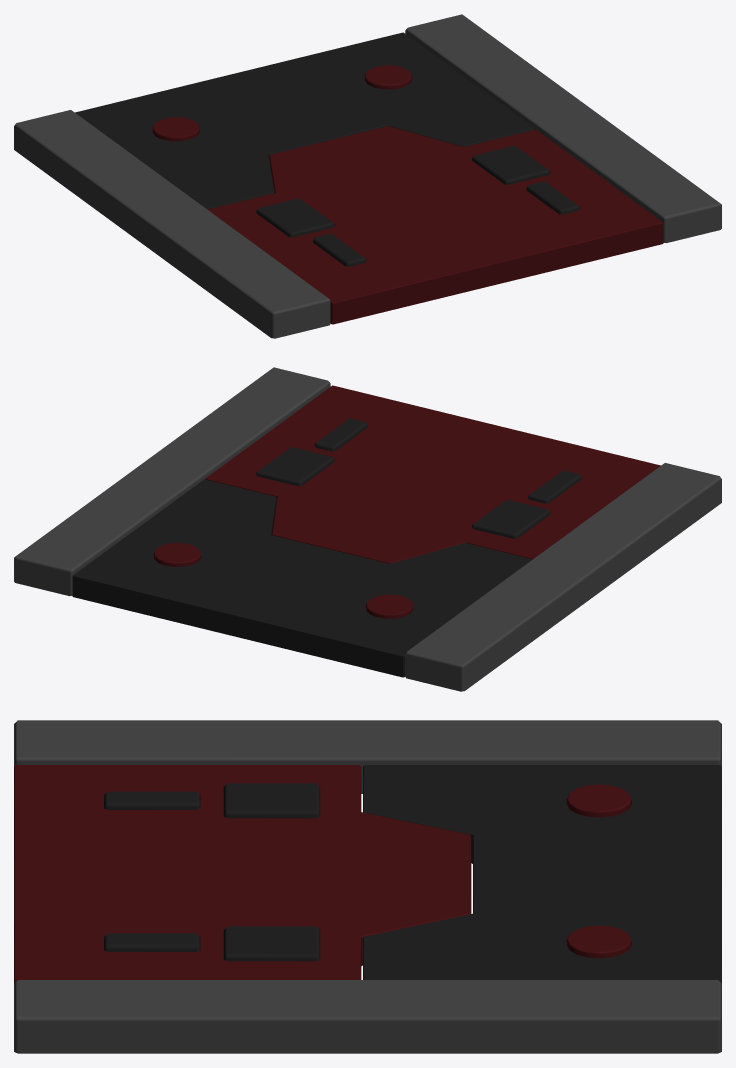
The model's file is colony_Tile_track3.glb.
3 views of the same model, one above another, from view 1: azimuth 30°, elevation 25°; view 2: azimuth 150°, elevation 25°; view 3: azimuth 270°, elevation 25° (orthographic). The views are drawn at different scales.
Parts seen in each view (by area): view 1: Tile_track3; view 2: Tile_track3; view 3: Tile_track3.
Boxes of the visible parts, x1=… form: Tile_track3: x1=14, y1=14, x2=721, y2=338; Tile_track3: x1=14, y1=367, x2=721, y2=691; Tile_track3: x1=14, y1=720, x2=721, y2=1053.
Bounding box in the file's own units: 180 × 10 × 180.
1 material, 1 textured.
